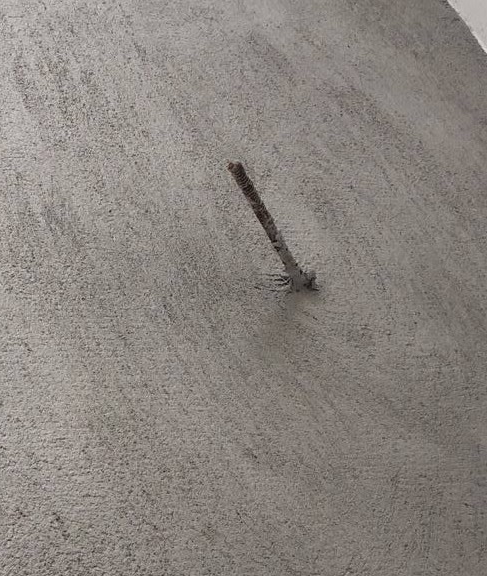Exposed reinforcement: (226, 161, 309, 289)
